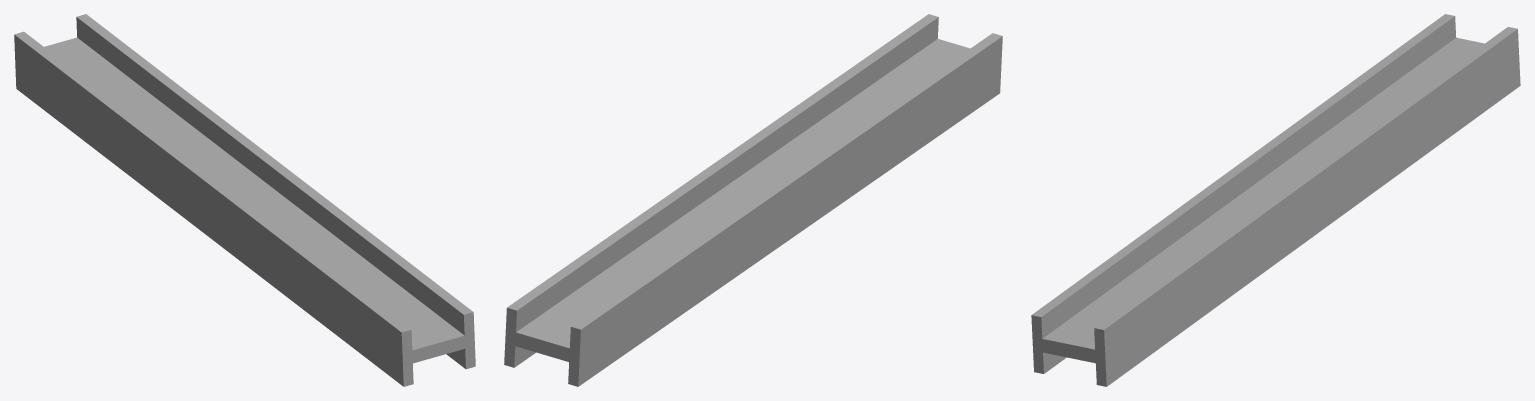
File: Metal_Barricade.fbx
3 renders of one model, left to right at view 1: azimuth 30°, elevation 25°; view 2: azimuth 150°, elevation 25°; view 3: azimuth 330°, elevation 25°, orthographic. The views are drawn at different scales.
Parts seen in each view (by area): view 1: Metal Barricade; view 2: Metal Barricade; view 3: Metal Barricade.
Part boxes in pixels (box(x1,y1,x2,y2)): Metal Barricade: box(14, 14, 475, 386); Metal Barricade: box(504, 14, 1002, 386); Metal Barricade: box(1031, 14, 1520, 386).
Size of the model in its own units: 75.84 by 57.3 by 634.
